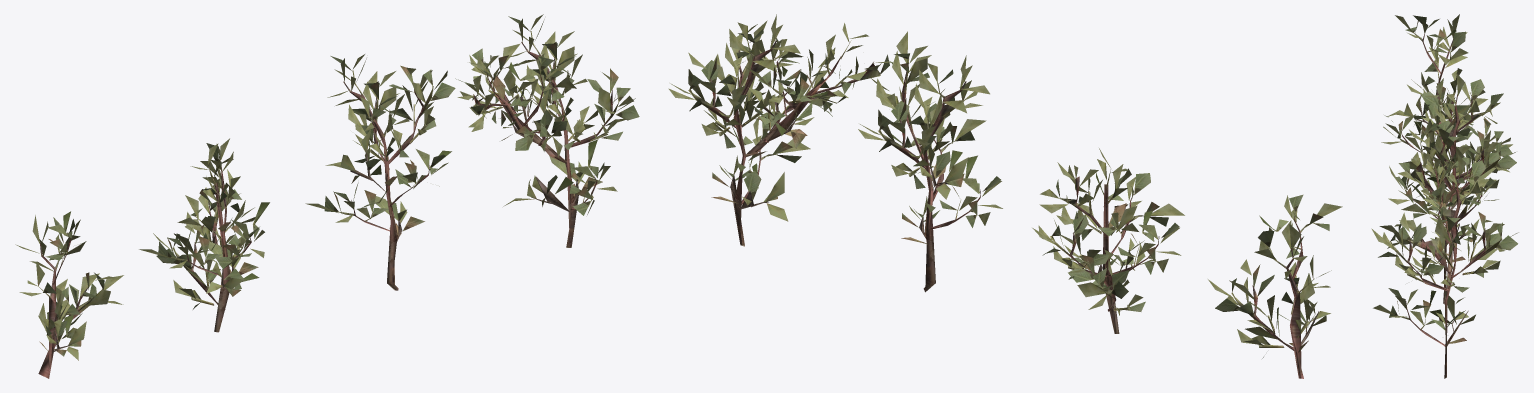
Rendered from shrub_04.glb.
3 renders of one model, left to right at view 1: azimuth 30°, elevation 25°; view 2: azimuth 150°, elevation 25°; view 3: azimuth 270°, elevation 25°, orthographic. The views are drawn at different scales.
Parts seen in each view (by area): view 1: shrub_04; view 2: shrub_04; view 3: shrub_04.
Boxes of the visible parts, x1,y1,x2,y2 form: shrub_04: (15,14,639,378); shrub_04: (668,14,1342,378); shrub_04: (1371,14,1518,378).
Size of the model in its own units: 0.5797 by 0.2215 by 0.1409.
Materials: 1 (1 with a texture image).
